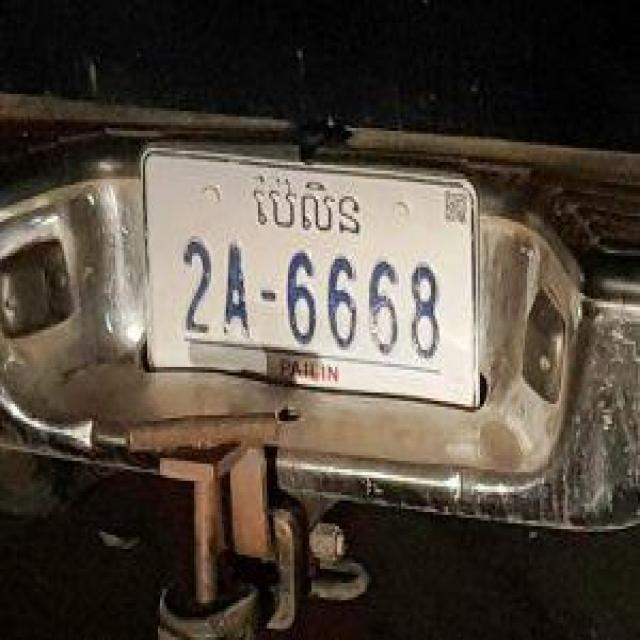Pailin: (246, 168, 362, 238)
